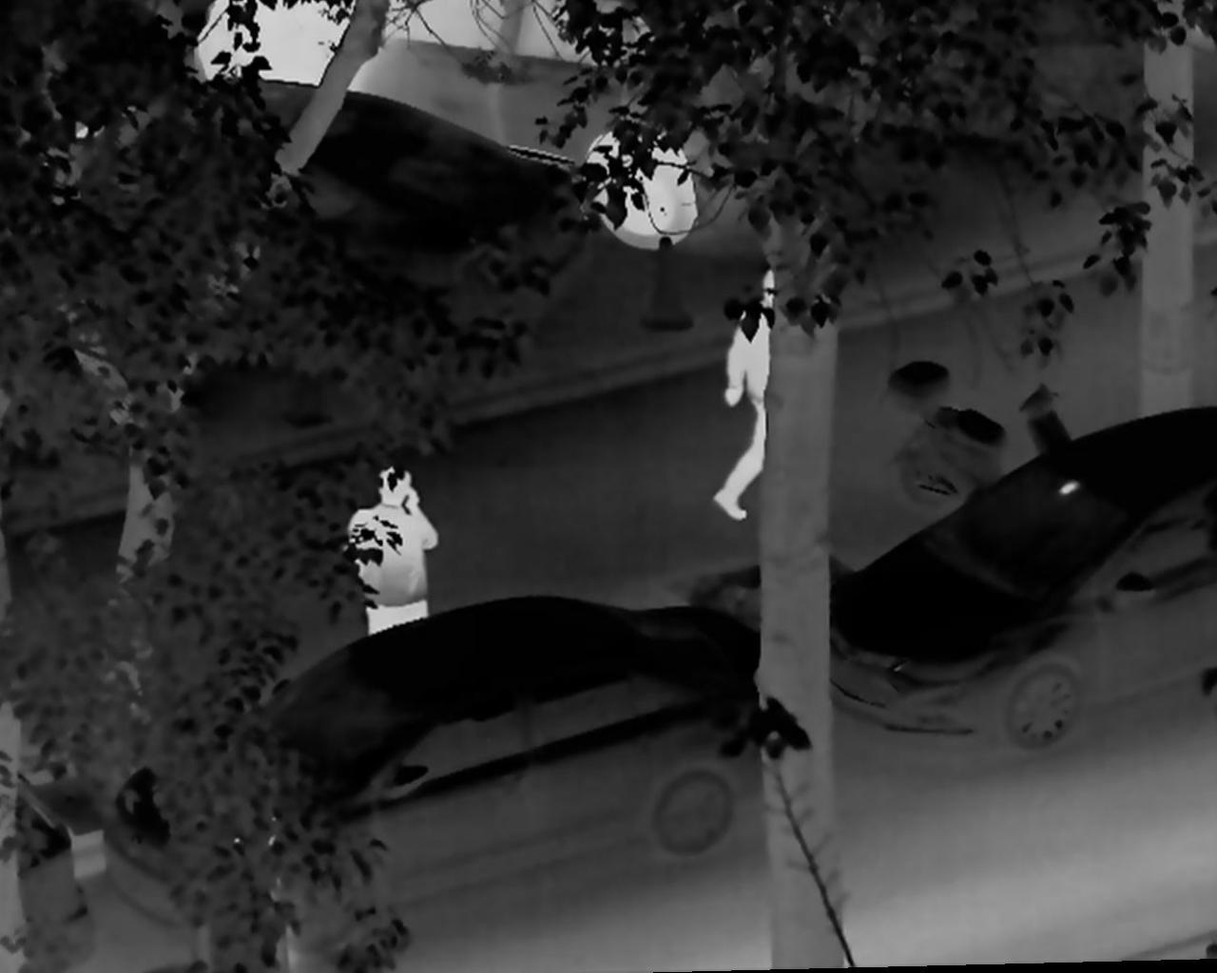person: (709, 267, 790, 524), (337, 466, 445, 641)
